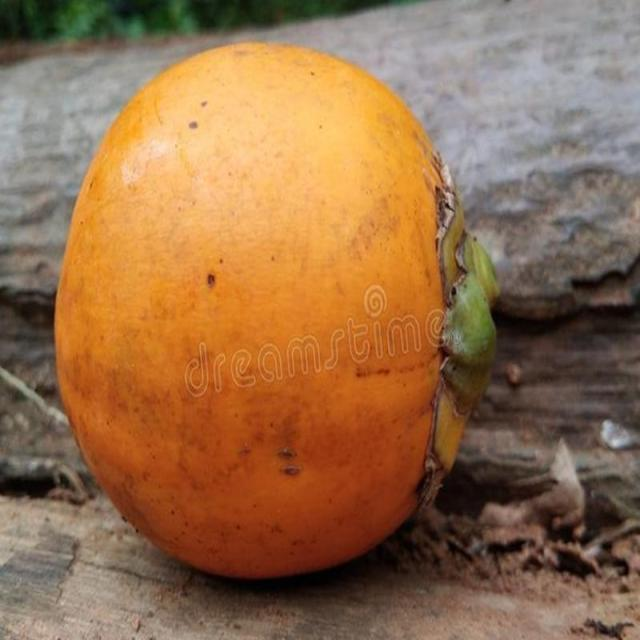good: (54, 42, 498, 585)
